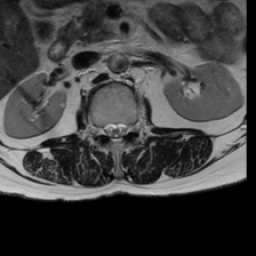CCS_normal: (111, 112, 119, 150)
LFS_normal: (127, 114, 136, 140)
LLS_normal: (119, 114, 127, 144)
RFS_normal: (95, 116, 103, 143)
RLS_normal: (103, 114, 111, 144)
